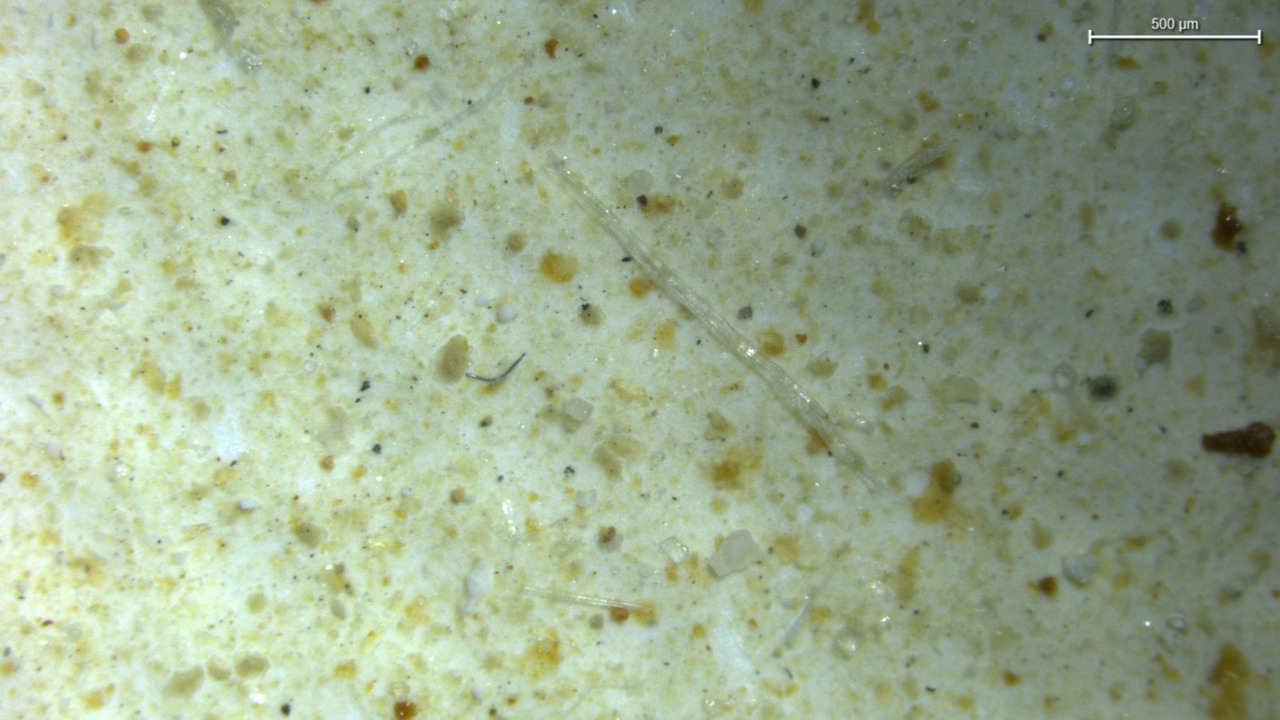microplastic_fragment: (710, 530, 762, 577), (462, 559, 495, 613), (564, 398, 593, 421), (495, 303, 517, 323)
